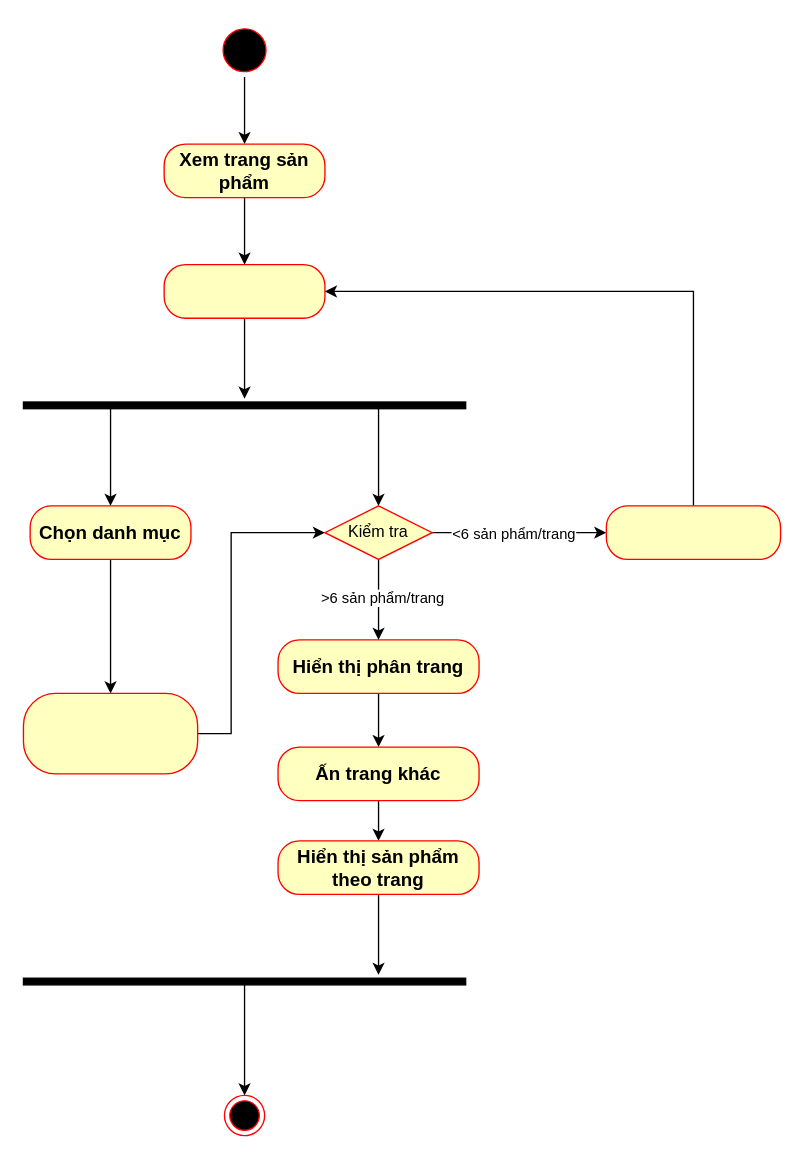
Some shapes in this 804 by 1159 pixel diagram are drawn without their labels. Here are the shapes that lost their labels. From the top down, the centre of each, then its label:
At point (244, 290): "Hiển thị trang sản phẩm".
At point (693, 532): "Không hiển thị phân trang".
At point (110, 733): "Hiển thị danh sách sản phẩm theo danh mục".
